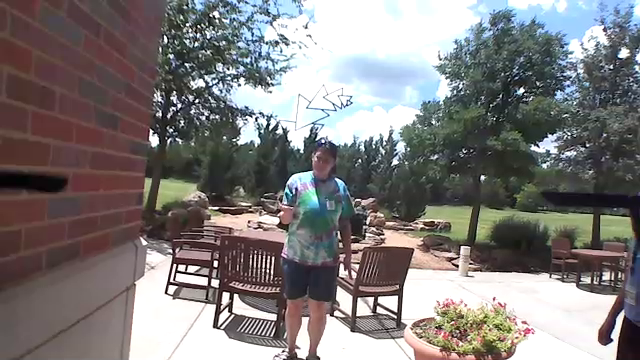land: (271, 200, 301, 219)
